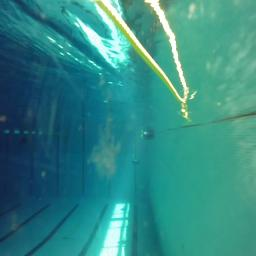Full: (141, 130, 153, 139), (132, 159, 140, 165)
